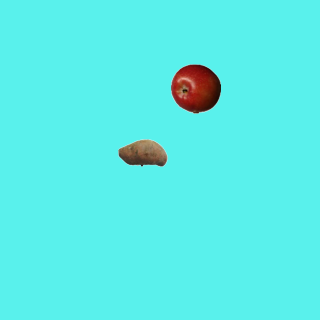Apple Braeburn: (170, 63, 220, 113)
Potato Sweet: (117, 127, 167, 177)
